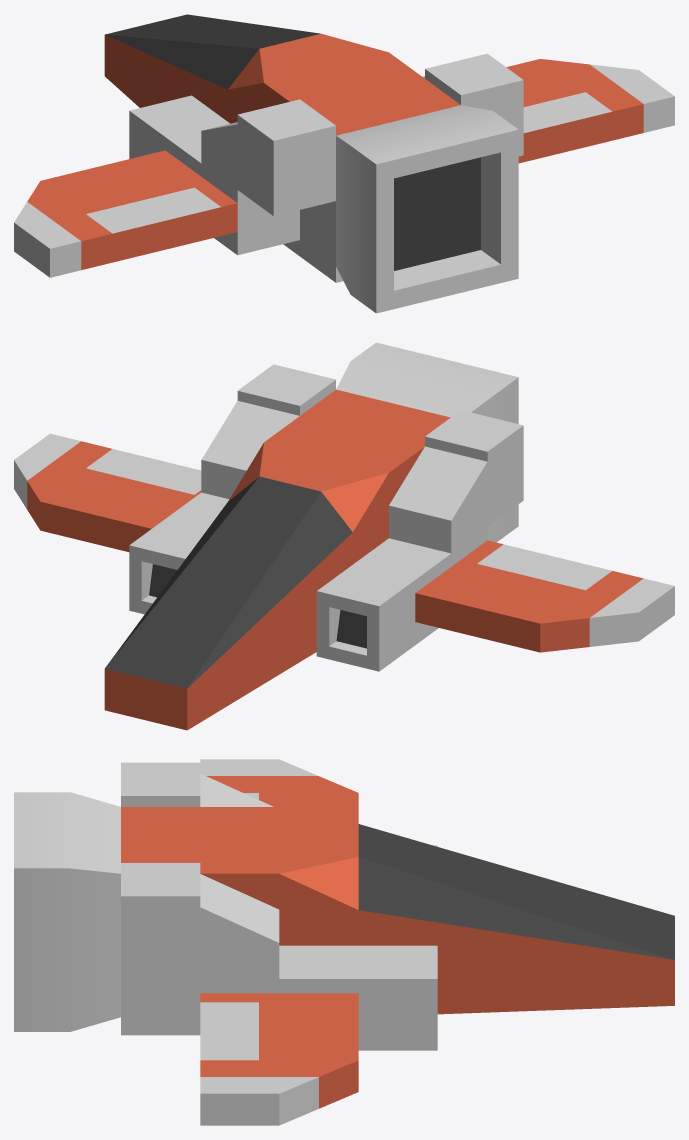
Rendered from spaceCraft1.fbx.
3 views of the same model, one above another, from view 1: azimuth 30°, elevation 25°; view 2: azimuth 150°, elevation 25°; view 3: azimuth 270°, elevation 25° (orthographic). The views are drawn at different scales.
Visible parts, largest first — view 1: spaceCraft1; view 2: spaceCraft1; view 3: spaceCraft1.
Part boxes in pixels (box(x1,y1,x2,y2)): spaceCraft1: box(14, 14, 674, 313); spaceCraft1: box(14, 342, 674, 730); spaceCraft1: box(14, 759, 674, 1125).
Size of the model in its own units: 19.75 by 4.75 by 16.5.
